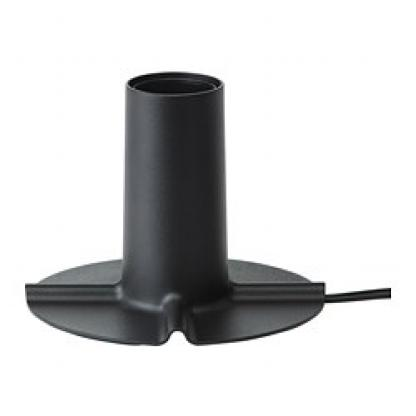Lamp: (19, 50, 334, 364)
